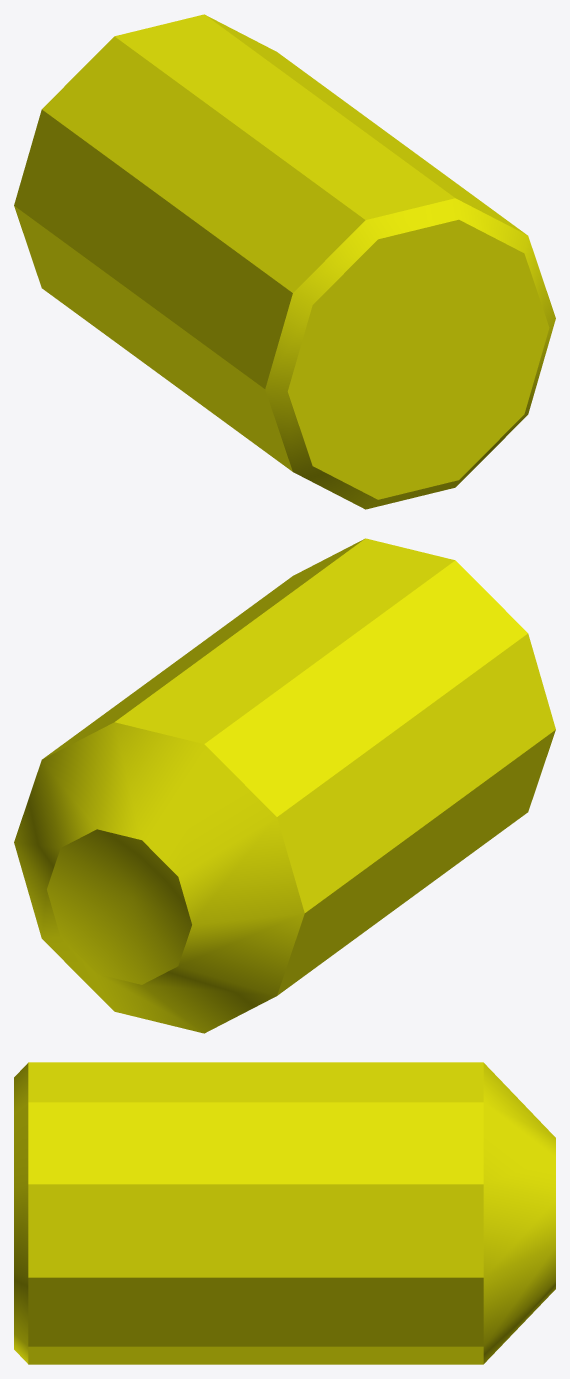
Rendered from SM_Bulet.fbx.
3 renders of one model, top to bottom at view 1: azimuth 30°, elevation 25°; view 2: azimuth 150°, elevation 25°; view 3: azimuth 270°, elevation 25°, orthographic. The views are drawn at different scales.
Parts seen in each view (by area): view 1: SM_Bullet; view 2: SM_Bullet; view 3: SM_Bullet.
Part boxes in pixels (x1=…): SM_Bullet: x1=14, y1=14, x2=555, y2=509; SM_Bullet: x1=14, y1=538, x2=555, y2=1033; SM_Bullet: x1=14, y1=1062, x2=555, y2=1364.
Size of what is drawn, in the model's own units: 2 by 1.9 by 3.56.
